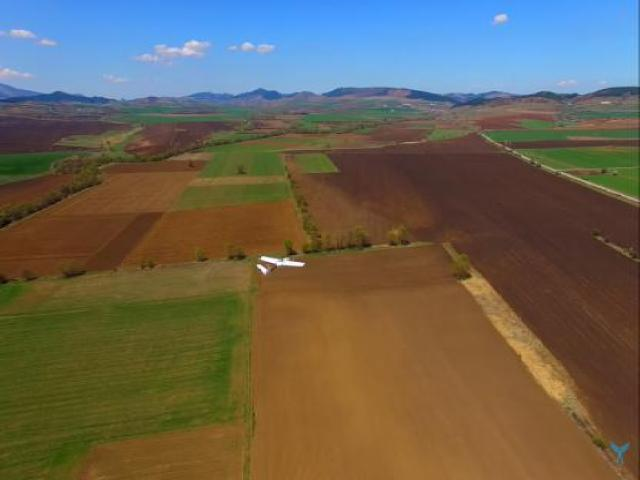uav: (252, 248, 311, 284)
